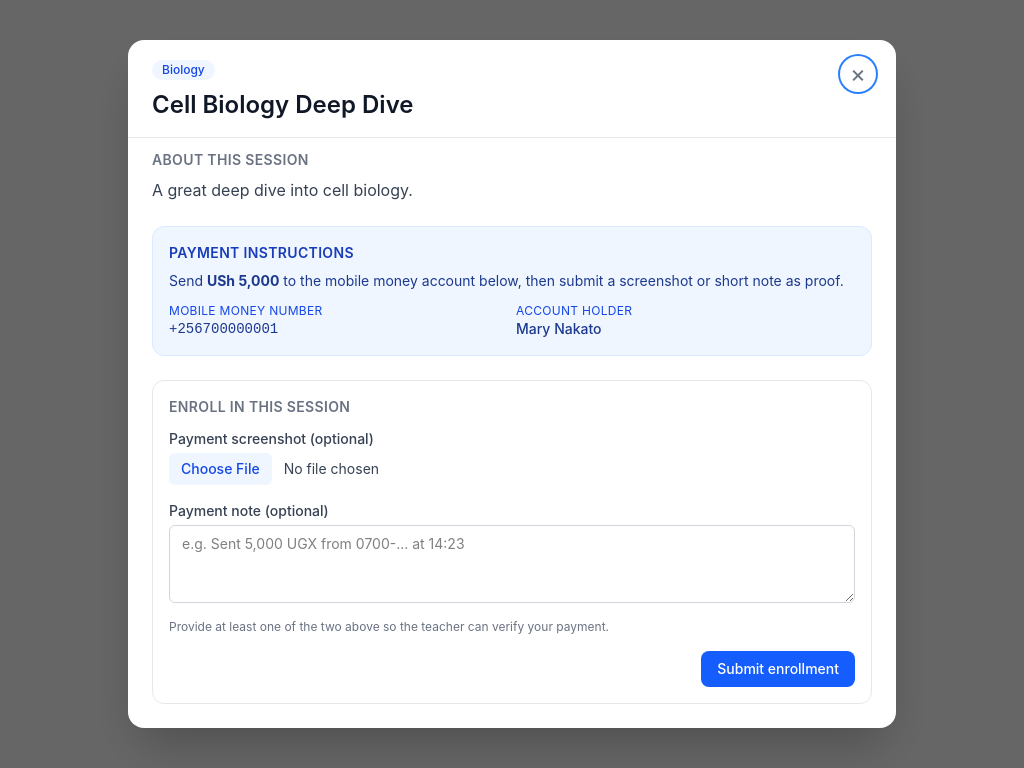
Test: SessionDetailModal › Enrollment form behaviour (Reqs 4.2 / 4.5 / 11.2) › shows a validation error when neither screenshot nor note is provided
(page scrolled)
Click the button "Submit enrollment" at (778, 669), box [701,651,855,687]
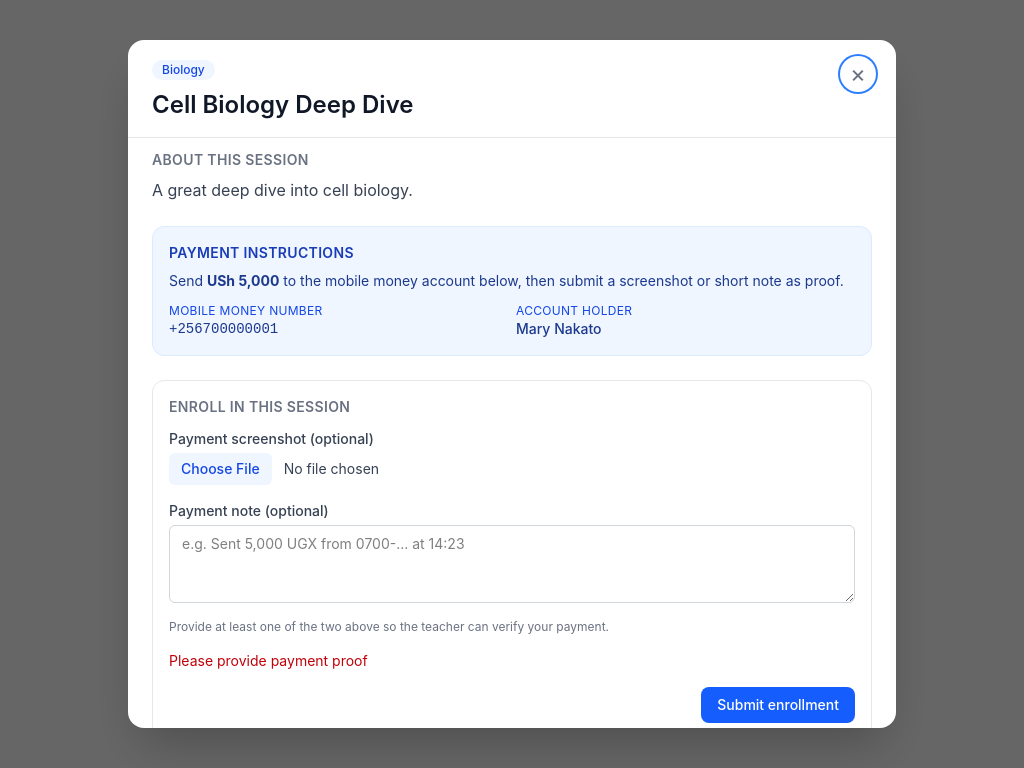
Check: the text "Please provide payment proof" is shown, box [169,652,368,669]
